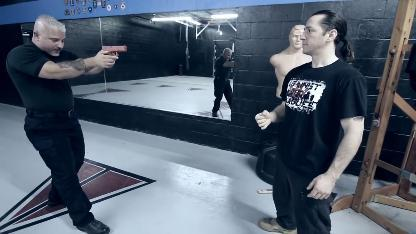pistol: (102, 44, 127, 56)
